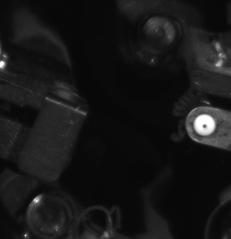fiber: (190, 110, 219, 141)
